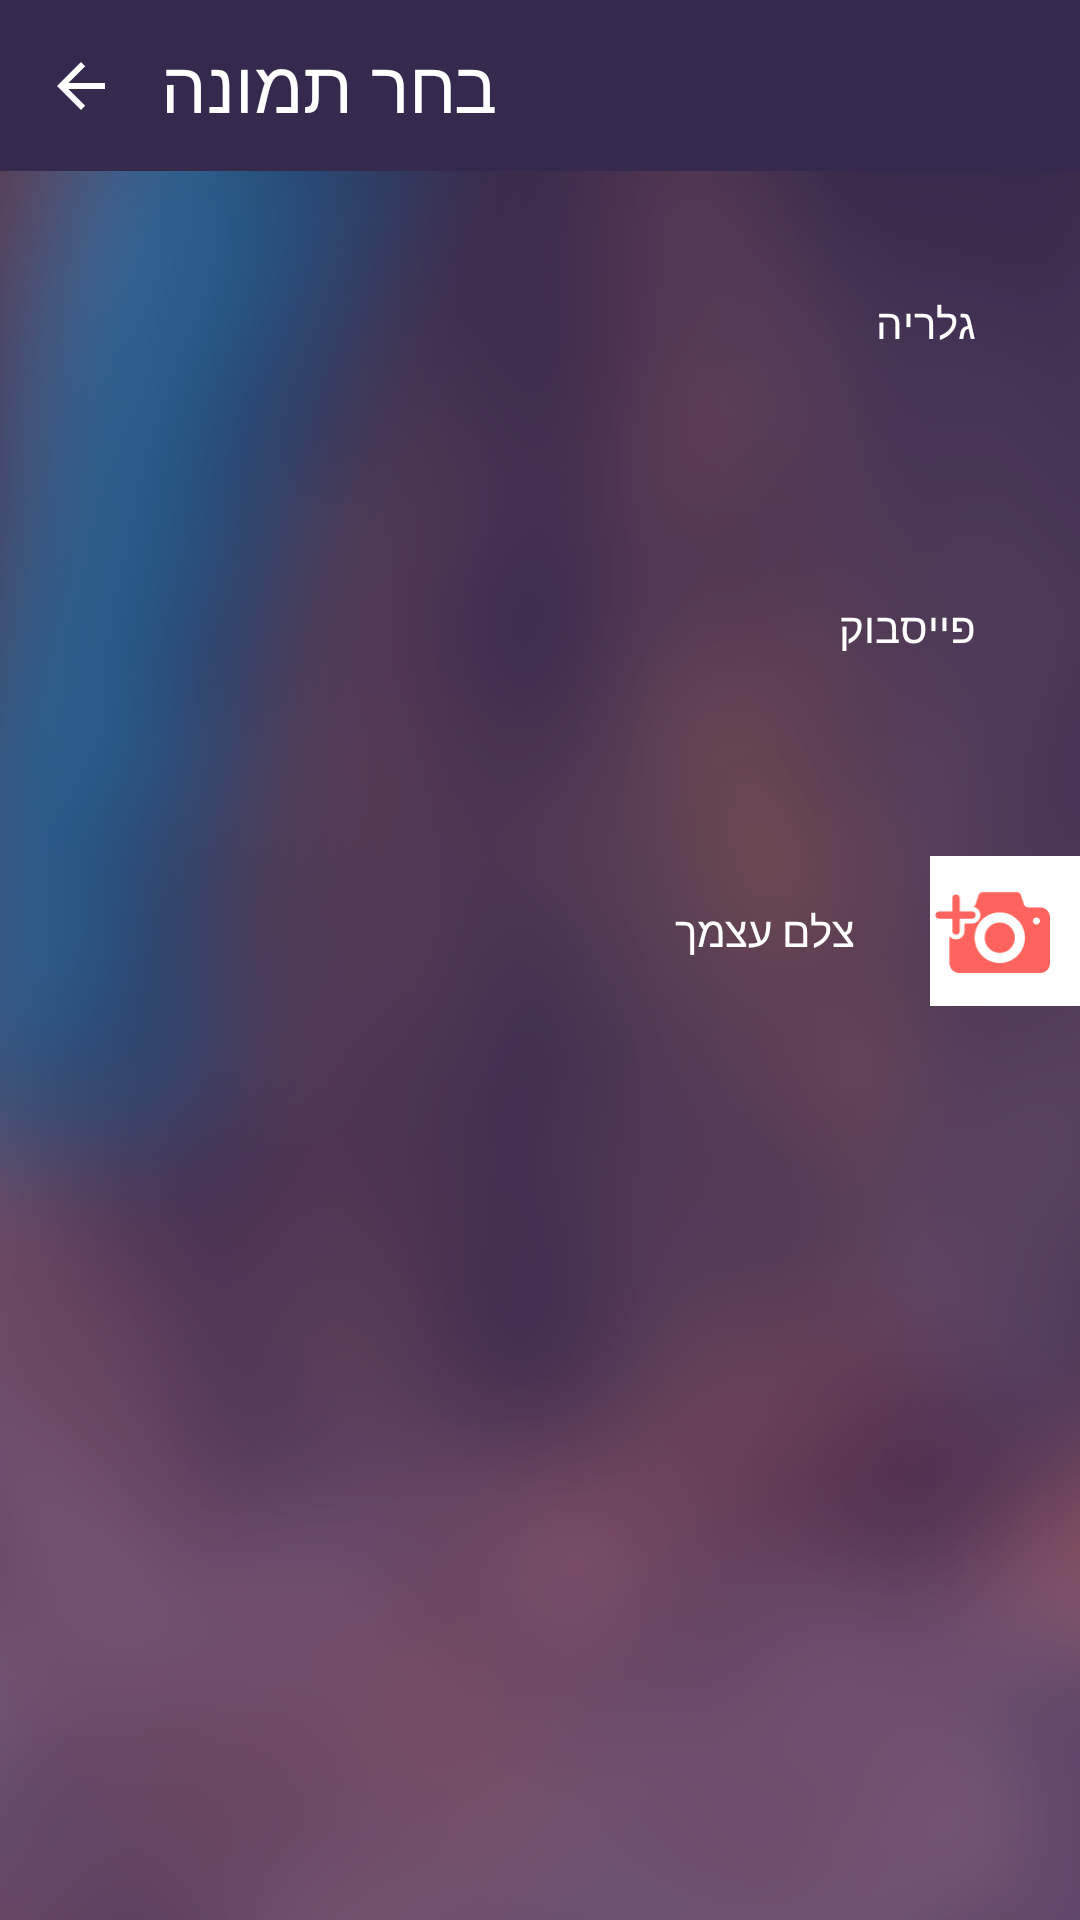

Screen size 1080px x 1920px. Icon name, then its center in pixels as (x,y):
back: (81,86)
self capture: (1005,931)
